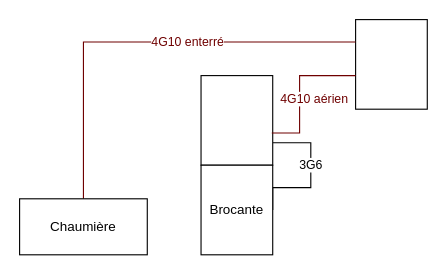
Image size: 447x274. Some labels were removed from this diagram. The box of each missing label's shape, as (x1, y1, x2, y2) in pixels:
Atelier: (354, 18, 427, 109)
Bâtisse: (200, 74, 273, 165)
